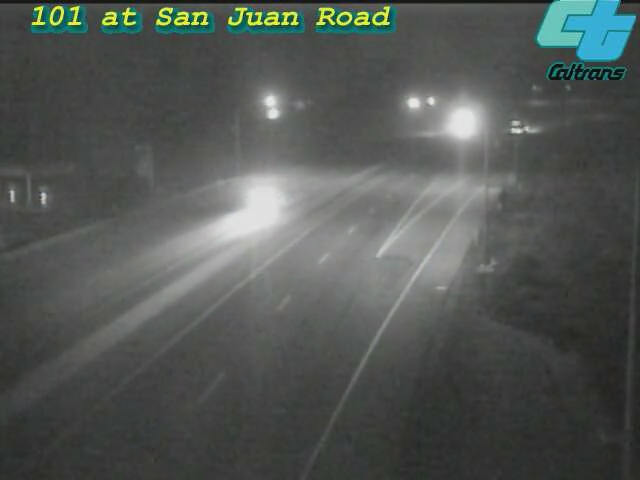vehicle: (220, 156, 300, 236), (438, 97, 488, 147), (497, 102, 547, 152)
